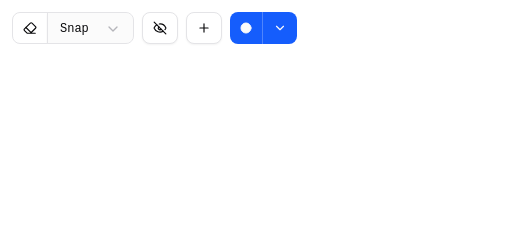
ProgrammerActionBar › omits the update-this-cue destination when nothing is included
Press the mouse on the button named "Record destination" at (280, 28), box [262,12,297,44]
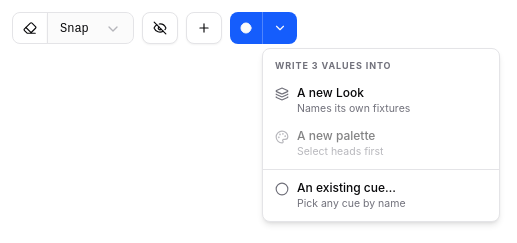
Expected: the text "A new Look" is shown, [297,84,364,100]
